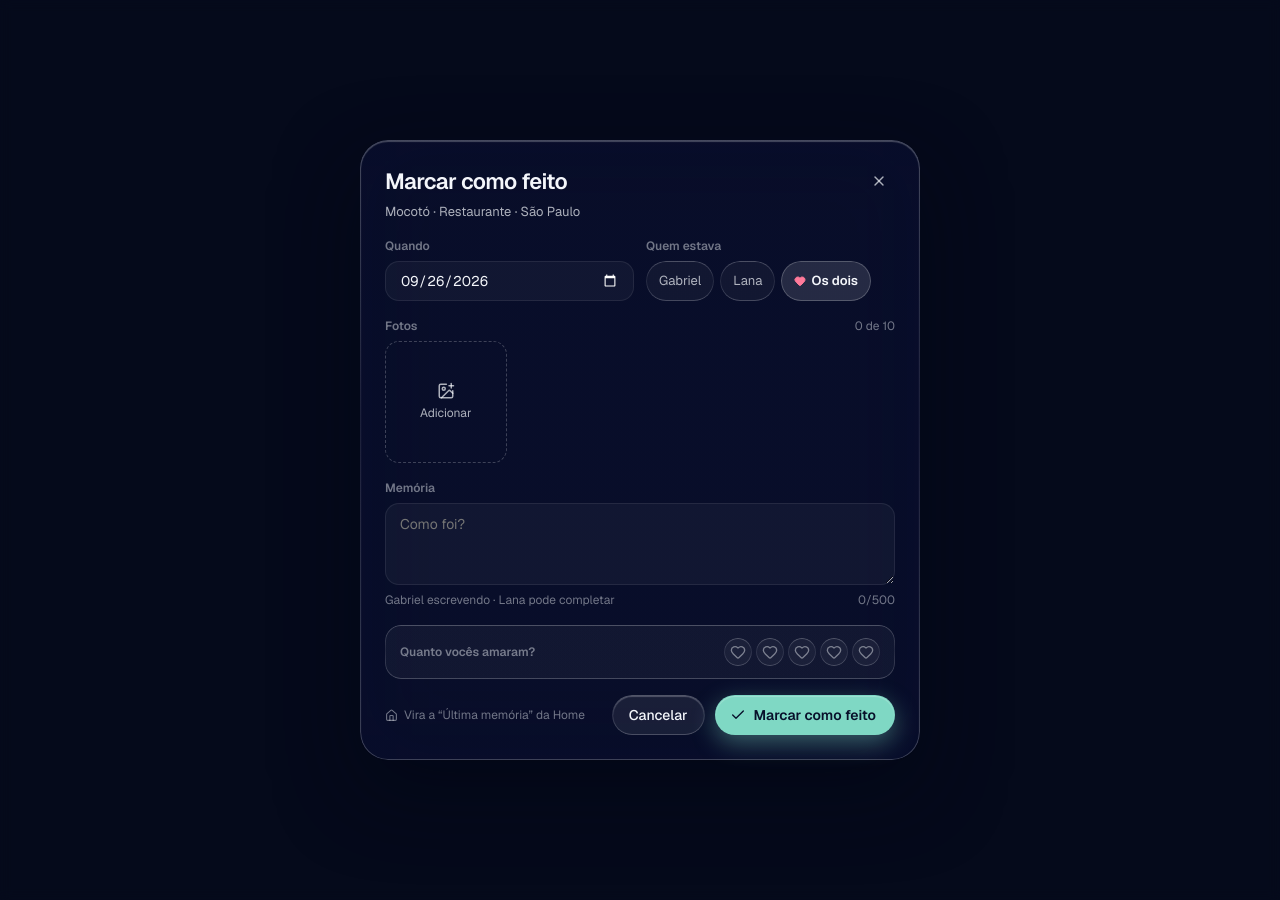
A15 — o formulário (R20) › a nota é opcional, com o rótulo "{n} de 5 · {rótulo}"; tocar de novo limpa
Click the button named "4 de 5": (834, 652) [820,638,848,666]
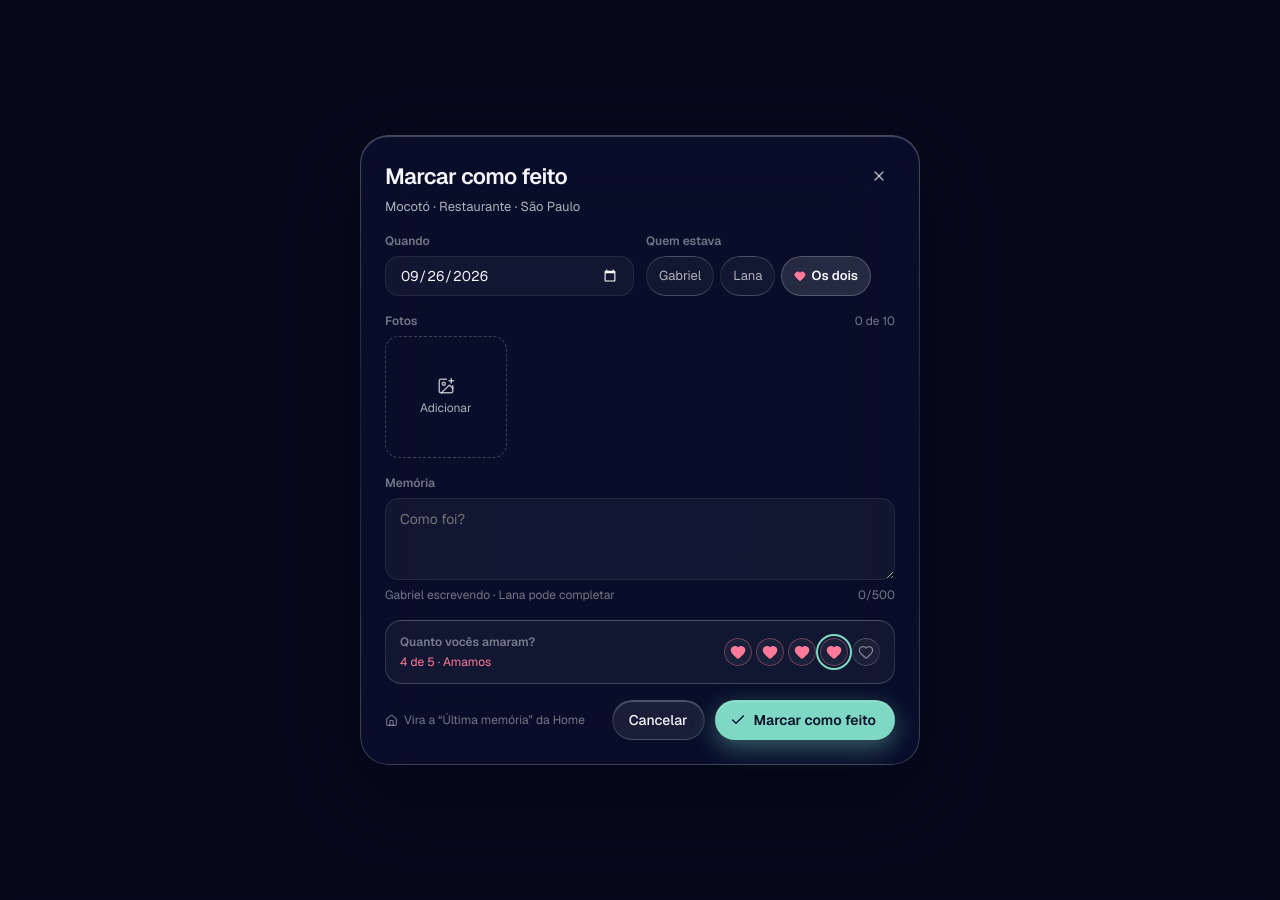
Now the text "4 de 5 · Amamos" is shown, box [400,654,491,670]
Click the button named "4 de 5": (834, 652) [820,638,848,666]
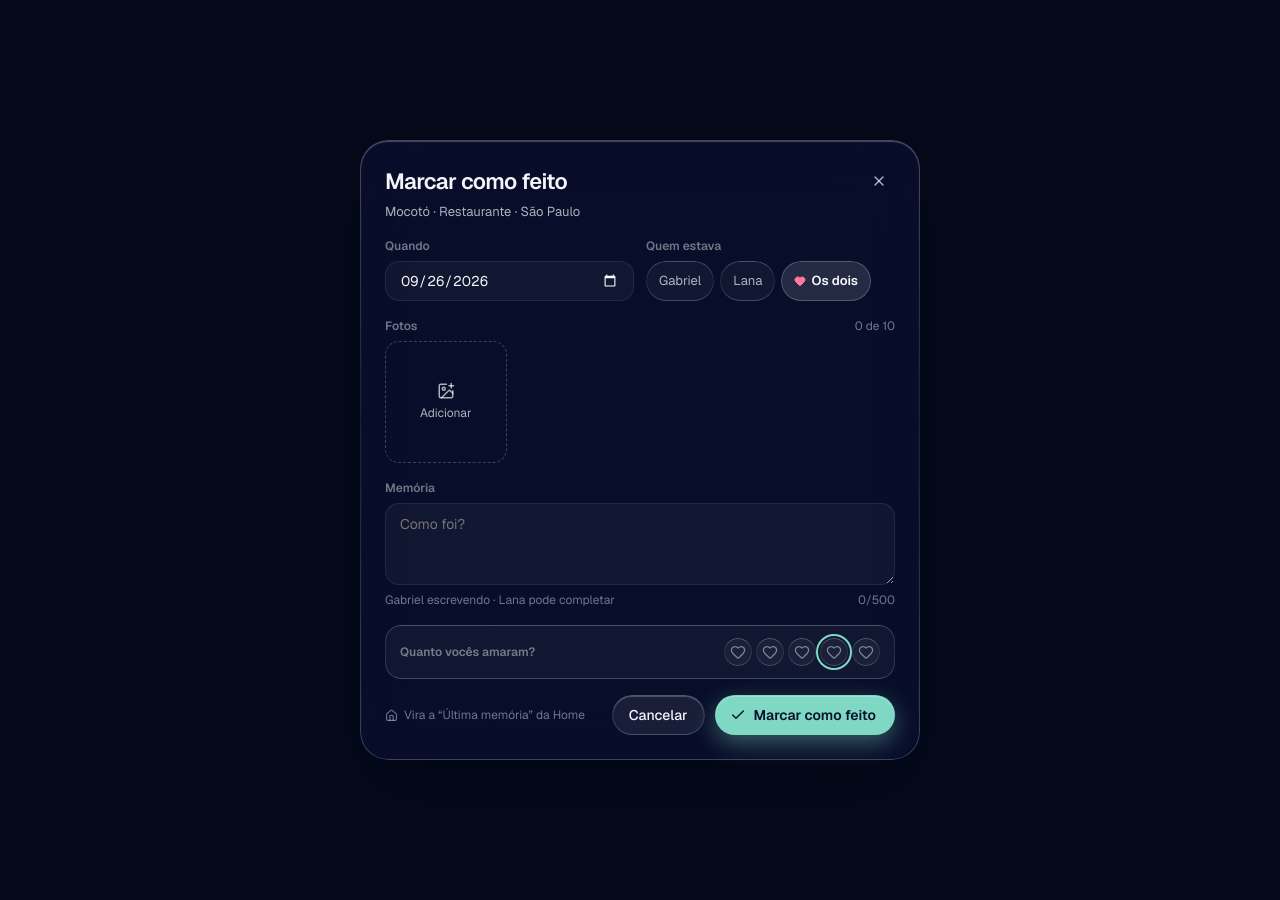
Now the text "4 de 5 · Amamos" is gone
